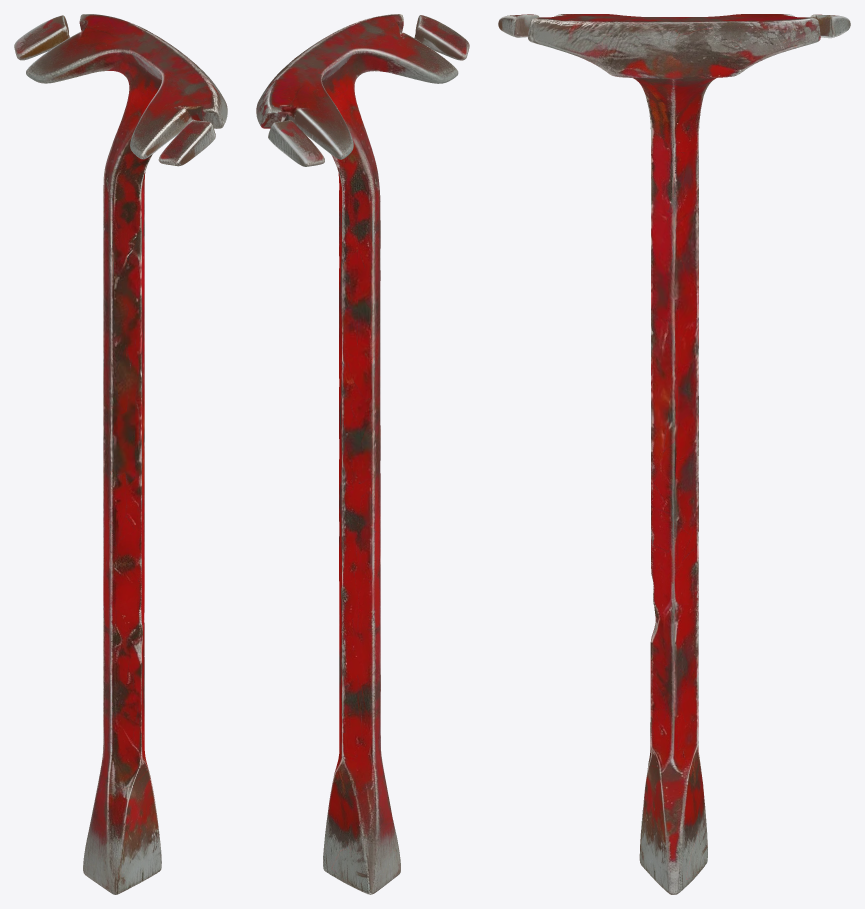
The model's file is melee_crowbar.glb.
The picture shows the model from 3 angles, left to right: view 1: azimuth 30°, elevation 25°; view 2: azimuth 150°, elevation 25°; view 3: azimuth 270°, elevation 25°; orthographic projection. The views are drawn at different scales.
Visible parts, largest first — view 1: melee_crowbar; view 2: melee_crowbar; view 3: melee_crowbar.
Part boxes in pixels (box(x1,y1,x2,y2)): melee_crowbar: box(14, 14, 227, 894); melee_crowbar: box(256, 14, 469, 894); melee_crowbar: box(498, 14, 850, 894).
Size of the model in its own units: 0.089 by 0.6 by 0.2176.
1 material, 1 textured.
